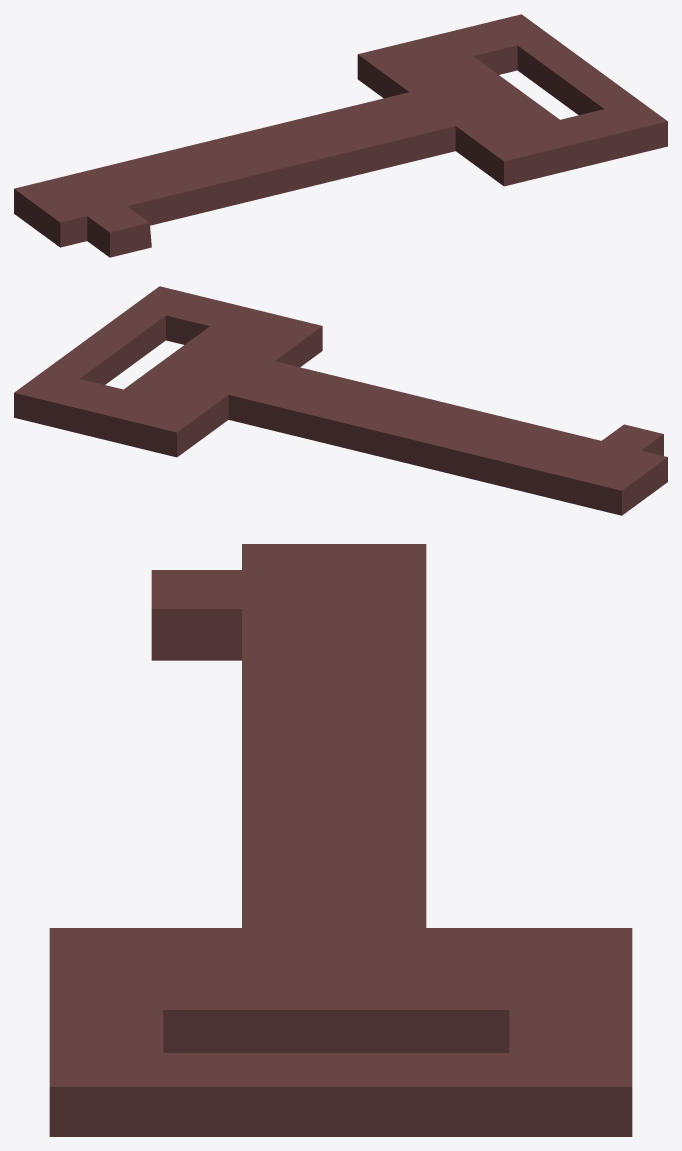
Rendered from Key_Red.fbx.
3 renders of one model, top to bottom at view 1: azimuth 30°, elevation 25°; view 2: azimuth 150°, elevation 25°; view 3: azimuth 270°, elevation 25°, orthographic. The views are drawn at different scales.
Visible parts, largest first — view 1: Key_Red; view 2: Key_Red; view 3: Key_Red.
Boxes of the visible parts, box(x1,y1,x2,y2) form: Key_Red: box(14, 14, 667, 257); Key_Red: box(14, 286, 667, 515); Key_Red: box(49, 544, 632, 1136).
Bounding box in the file's own units: 0.1278 × 0.00548 × 0.0579.
